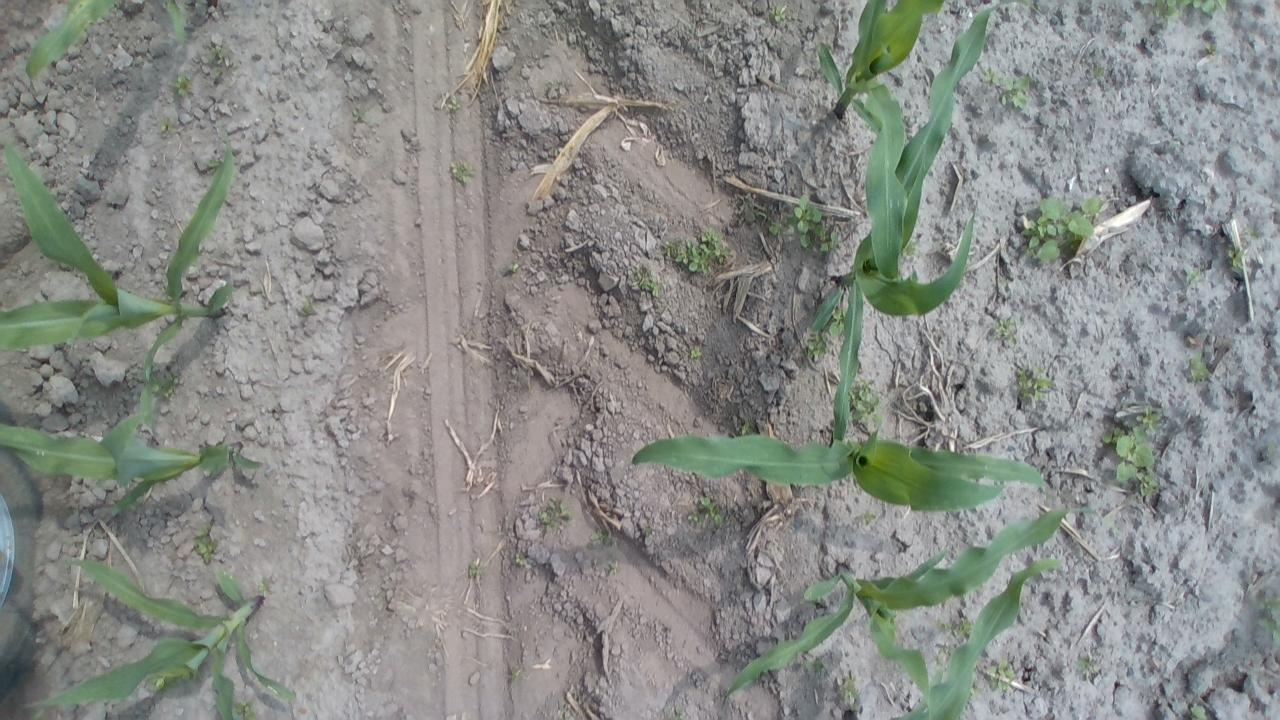Maize: (809, 0, 1015, 459), (721, 502, 1112, 716), (0, 120, 245, 398), (28, 551, 301, 720), (628, 420, 1052, 509), (0, 389, 267, 523), (892, 554, 1069, 720), (820, 0, 959, 156), (21, 0, 210, 94)
Weeds: (1020, 192, 1106, 267), (1100, 426, 1162, 499), (787, 194, 843, 256), (664, 227, 728, 276), (980, 64, 1034, 112), (846, 376, 887, 428), (1012, 362, 1060, 406), (1138, 0, 1230, 21), (685, 494, 727, 530), (628, 264, 663, 300), (147, 368, 184, 402), (985, 654, 1017, 692), (147, 673, 199, 696), (1184, 350, 1216, 386), (539, 497, 573, 529), (194, 522, 218, 565), (834, 675, 866, 706), (800, 652, 834, 681), (448, 157, 479, 187), (995, 313, 1024, 345), (1134, 404, 1167, 432), (589, 524, 622, 550), (936, 614, 973, 637), (1072, 650, 1102, 678), (208, 43, 230, 81), (807, 328, 830, 362), (828, 304, 848, 341), (1182, 260, 1210, 286), (1255, 618, 1280, 646), (539, 75, 570, 96), (232, 698, 260, 719), (174, 70, 194, 99), (767, 0, 789, 26), (932, 644, 954, 668), (299, 296, 321, 319), (349, 106, 373, 127), (856, 507, 882, 526), (742, 202, 764, 224), (466, 556, 486, 580), (155, 116, 179, 136), (504, 663, 526, 684), (736, 420, 760, 439), (600, 558, 622, 578), (1228, 246, 1248, 268), (256, 574, 274, 598), (898, 238, 919, 258), (206, 155, 228, 174), (1188, 701, 1210, 720), (1090, 62, 1108, 84), (509, 548, 528, 568), (444, 97, 466, 114), (1204, 40, 1222, 60), (1259, 594, 1280, 611), (666, 706, 690, 719), (558, 703, 576, 720), (768, 219, 784, 238), (640, 522, 658, 538), (970, 682, 984, 700), (1246, 228, 1260, 241), (689, 347, 704, 358), (508, 262, 520, 274), (1266, 442, 1276, 453)
